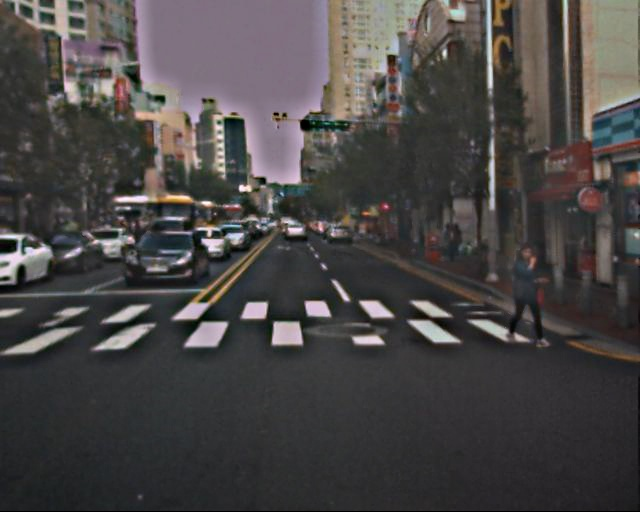person: (501, 241, 545, 348), (435, 226, 463, 266)
